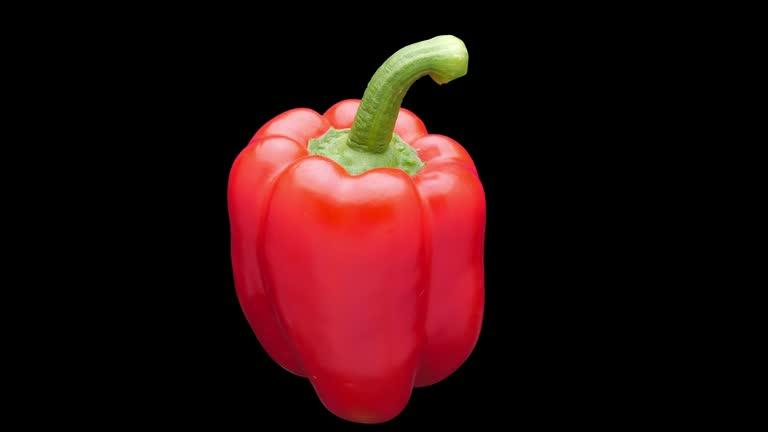Capsicum: (229, 99, 485, 421)
